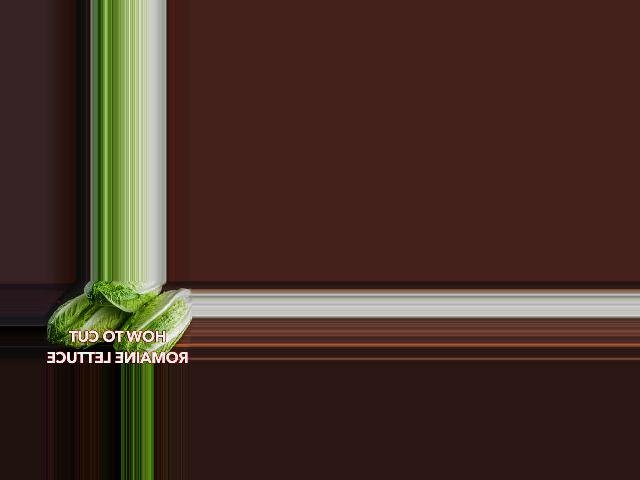lettuce: (43, 288, 135, 355)
